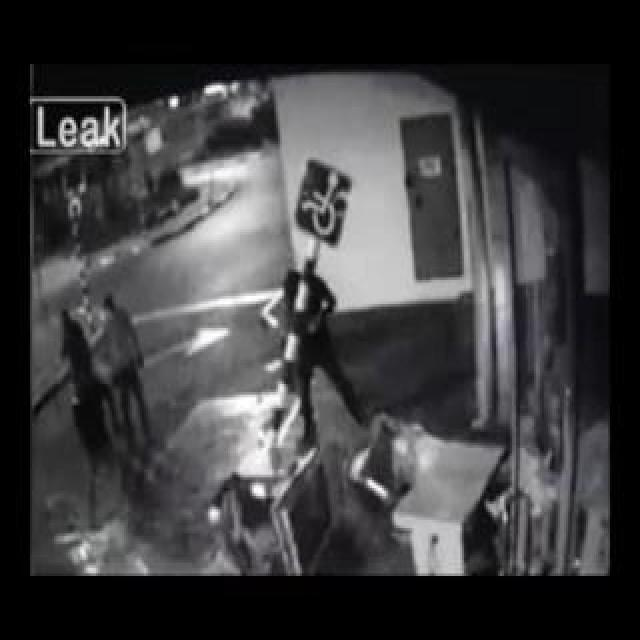thief: (48, 289, 151, 399), (274, 260, 338, 335)
